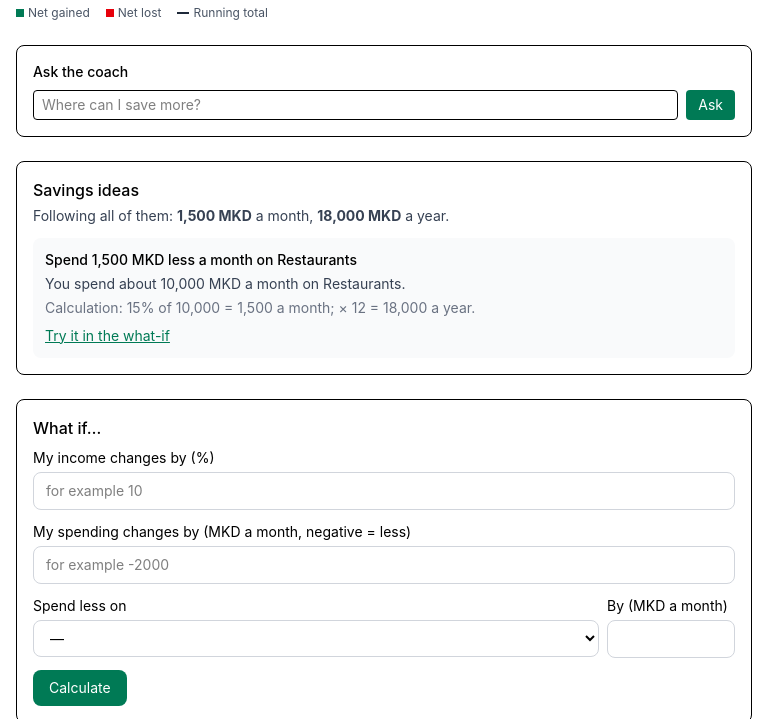
ForecastPage › shows ideas with their calculation and can try one in the what-if
(page scrolled)
Expected: the text "15% of 10,000 = 1,500 a month" is shown, [127,299,475,316]
Expected: the element labelled "Savings ideas" shows "18,000", [317,207,401,224]
What coordinates should you click on to do the following:
click the button with aria-label "Try “Spend 1,500 MKD less"
I would click on:
 (107, 336)
Its box is [45,326,170,346].
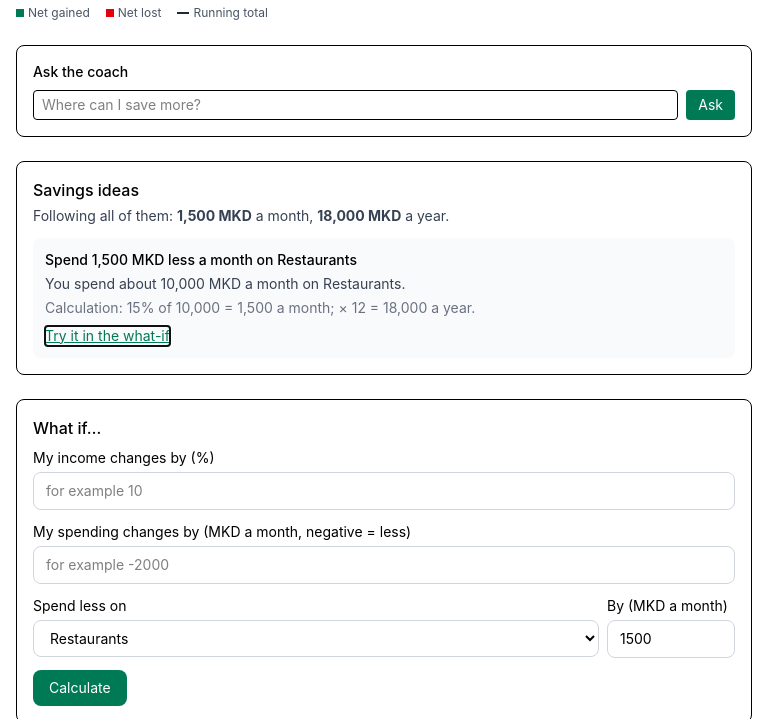
Now the field labelled "By (MKD a month)" holds "1500", box [607,620,735,658]
Now the dropdown labelled "Spend less on" shows "Restaurants", box [33,620,599,657]
